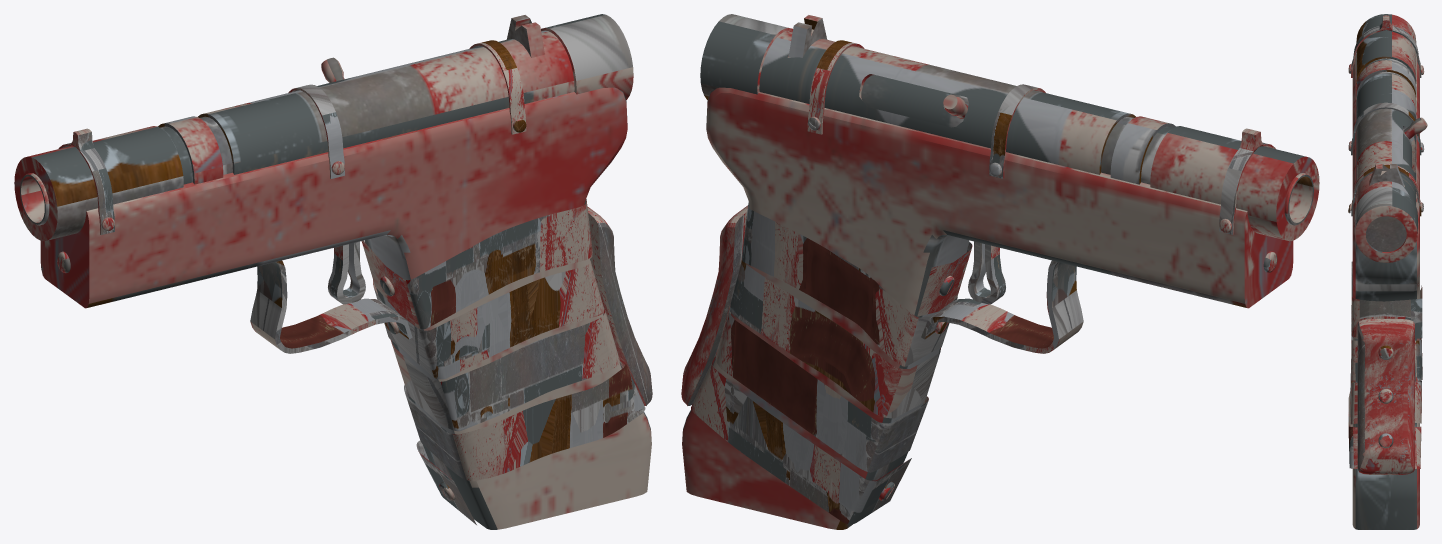
File: pistol.obj
3 views of the same model, side by side, from view 1: azimuth 30°, elevation 25°; view 2: azimuth 150°, elevation 25°; view 3: azimuth 270°, elevation 25° (orthographic). The views are drawn at different scales.
Visible parts, largest first — view 1: cube, plane_002, cylinder, plane; view 2: cube, plane_002, cylinder, cylinder_015, plane; view 3: plane_002, cylinder, cube, cylinder_015.
Boxes of the visible parts, box(x1,y1,x2,y2) form: cube: box(40, 87, 651, 529); plane_002: box(57, 40, 652, 524); cylinder: box(14, 14, 633, 241); plane: box(328, 241, 365, 304); cube: box(682, 87, 1293, 529); plane_002: box(681, 40, 1277, 524); cylinder: box(700, 14, 1319, 241); cylinder_015: box(861, 75, 968, 127); plane: box(968, 241, 1005, 304); plane_002: box(1348, 15, 1424, 474); cylinder: box(1354, 14, 1417, 262); cube: box(1352, 53, 1419, 529); cylinder_015: box(1403, 117, 1427, 167).
Size of the model in its own units: 7.54 by 5.7 by 1.24.
